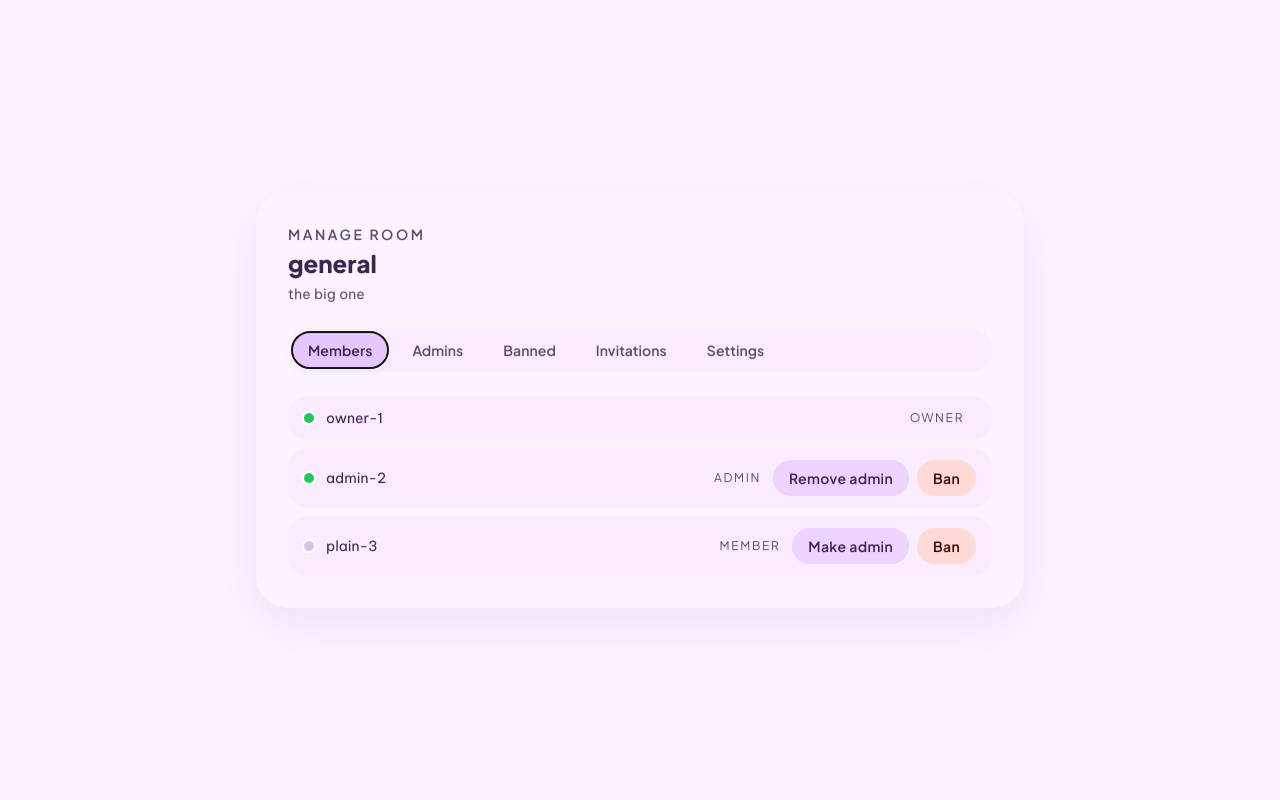
<ManageRoomModal /> › Banned tab fetches + renders the ban list
The image size is (1280, 800).
Click the button with test id "manage-room-tab-banned".
click(530, 350)  # box [487,332,572,368]
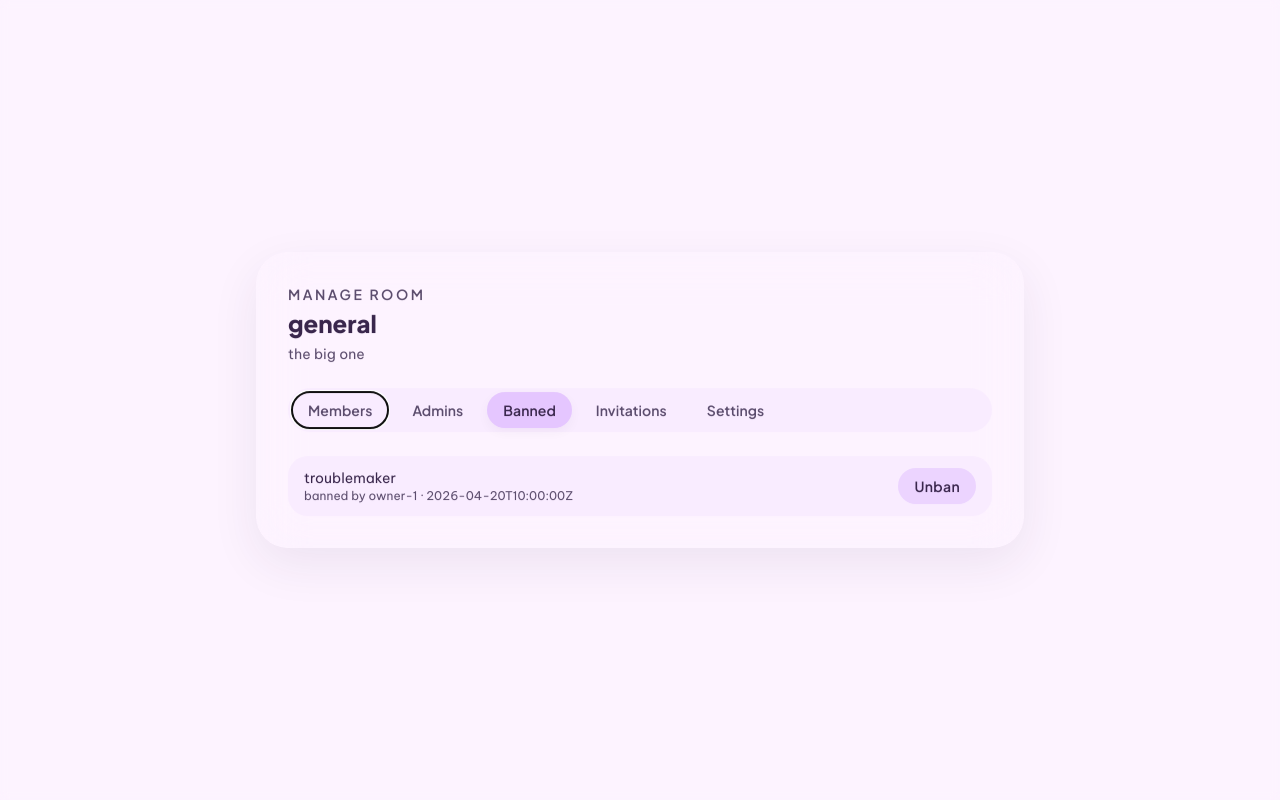
Expected: the text "troublemaker" is shown, [304,469,396,487]
